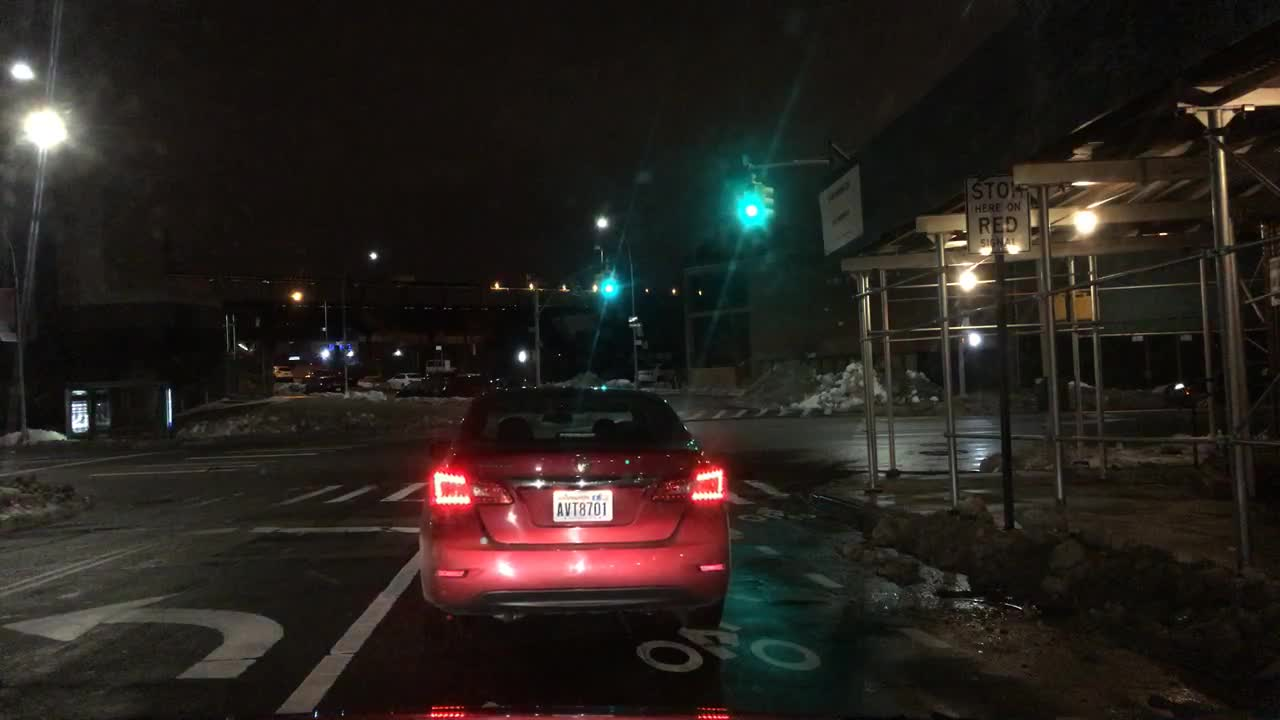car: (417, 381, 727, 631), (1161, 361, 1279, 409), (303, 374, 346, 396), (398, 379, 455, 395), (388, 370, 422, 389), (355, 373, 384, 389), (272, 361, 296, 380)
traffic light: (742, 182, 758, 223), (759, 187, 776, 224), (514, 345, 535, 365), (603, 277, 617, 298)
traffic sign: (967, 174, 1031, 257), (819, 163, 865, 259), (624, 313, 638, 325)
truck: (425, 358, 457, 376)
